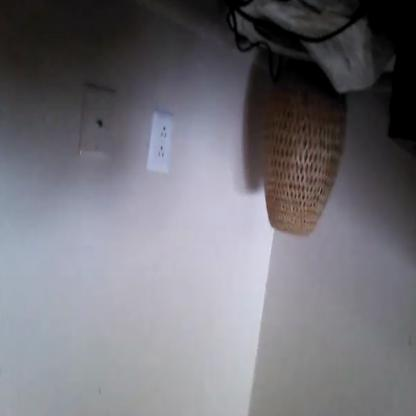OUTLET: (148, 112, 174, 174)
